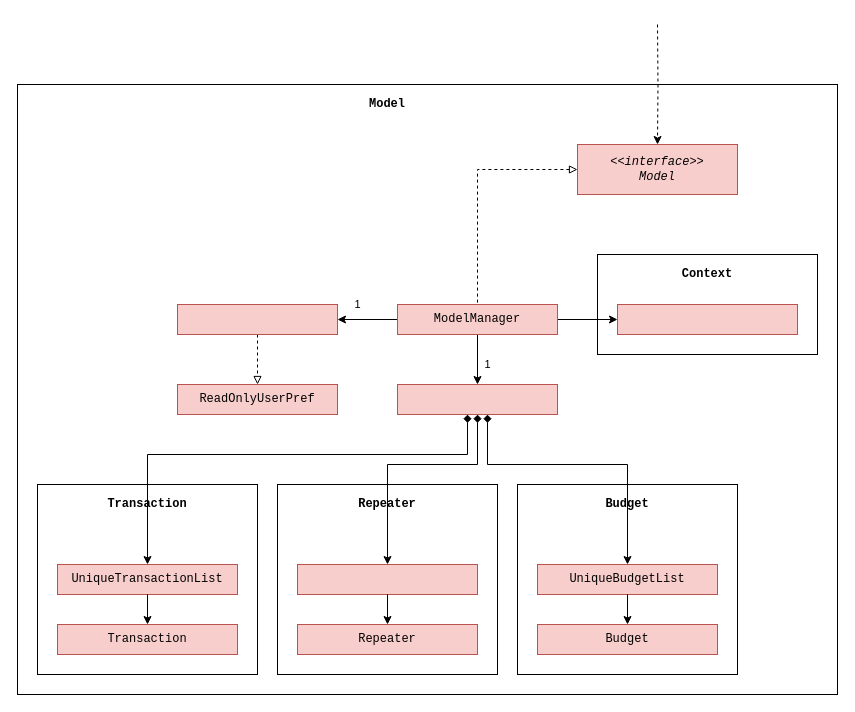
Image size: 855x712. Some labels were removed from this diagram. Each missing label, with the centre of its shape:
"FundBook" goes at point (477, 399).
"TransactionContext" goes at point (707, 319).
"UniqueRepeaterList" goes at point (387, 579).
"UserPrefs" goes at point (257, 319).
